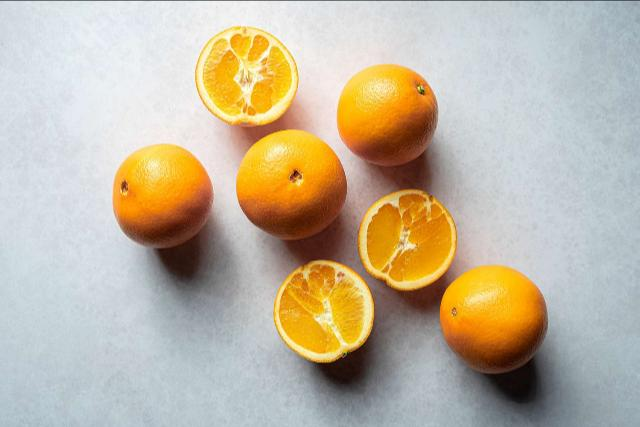Oranges: (440, 264, 548, 375), (239, 129, 347, 237), (337, 62, 439, 166), (114, 144, 214, 248)
